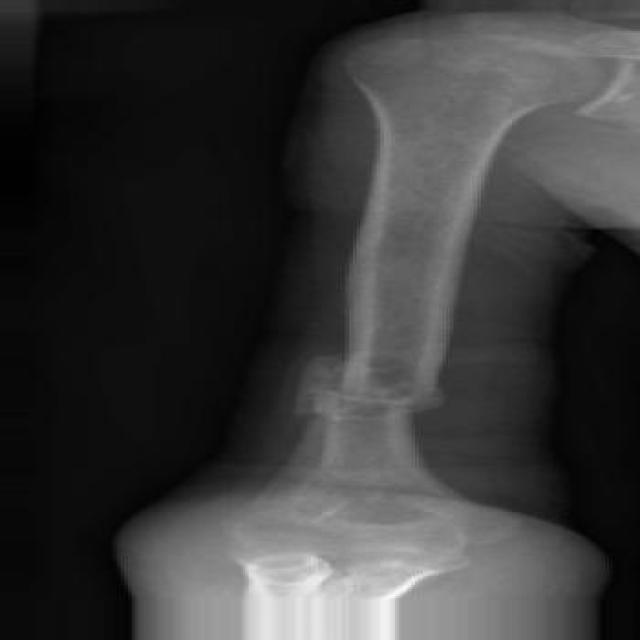Fracture: (272, 357, 472, 424)
